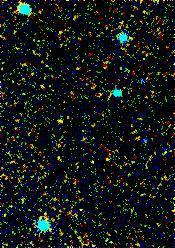star: (48, 107, 78, 137)
